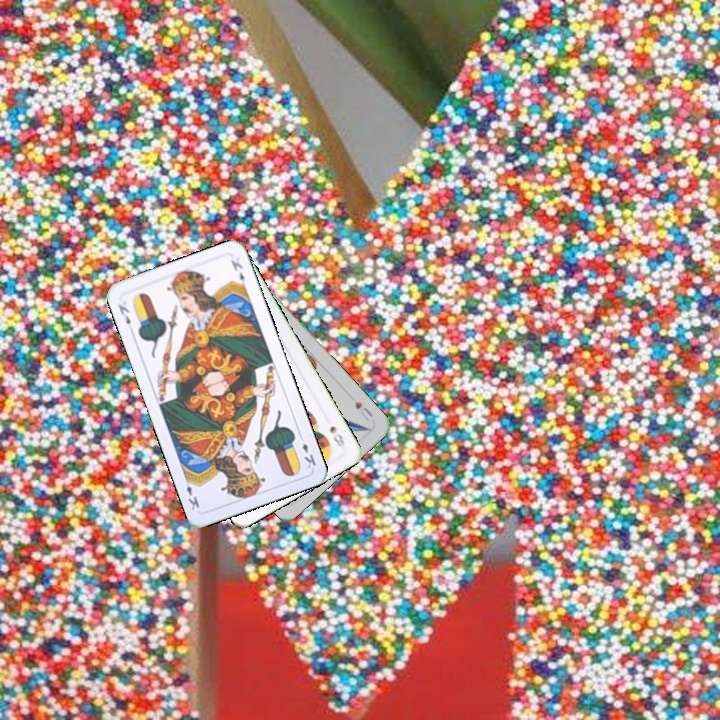EK: (295, 431, 319, 471), (114, 300, 133, 327)
HU: (351, 397, 376, 423)
S8: (326, 422, 348, 449)
